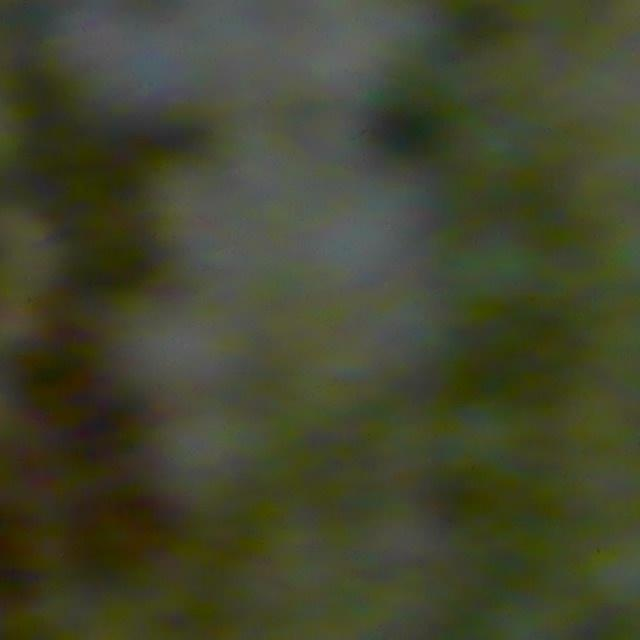SeaGrape: (311, 182, 418, 283), (126, 312, 248, 397), (74, 19, 178, 112), (300, 1, 393, 94), (163, 413, 259, 502)
